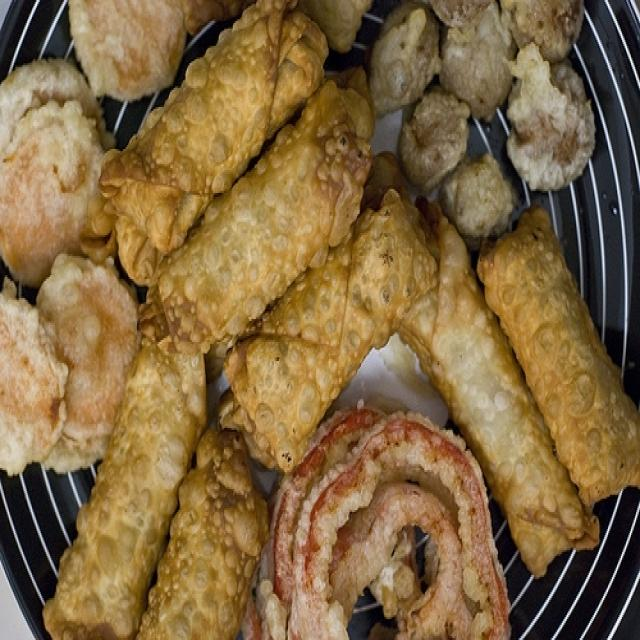炸货点心: (13, 21, 612, 617)
